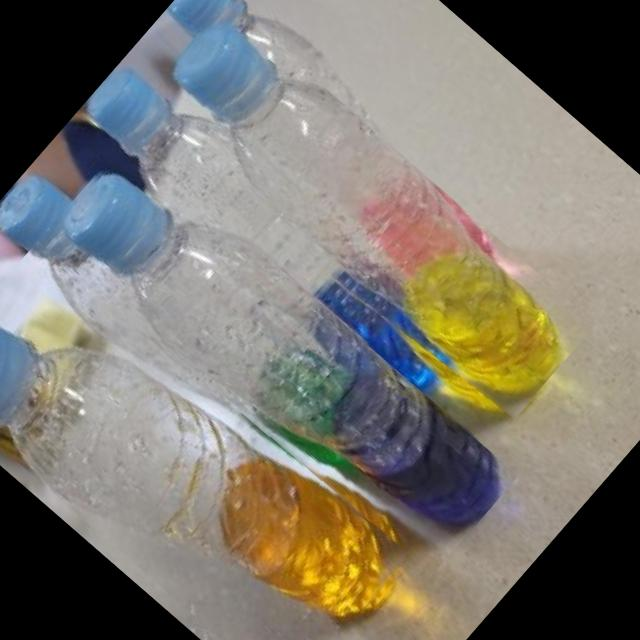plastic bottle: (38, 136, 519, 579), (130, 5, 598, 438), (0, 227, 425, 640)
